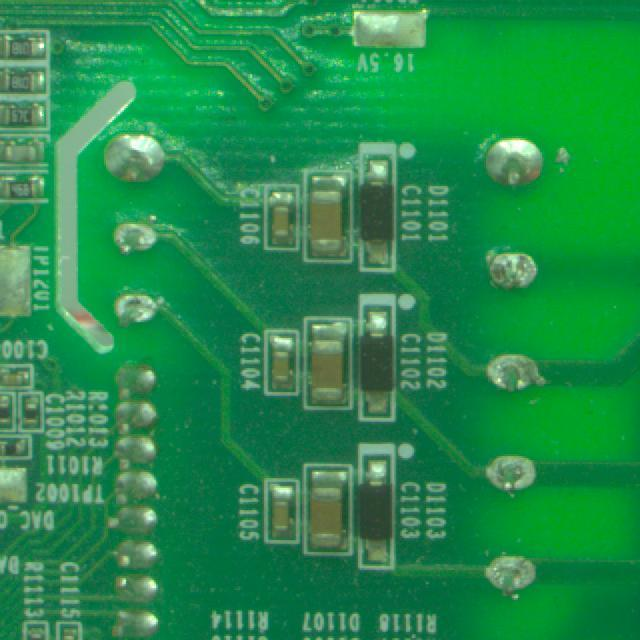Insufficient solder: (485, 344, 540, 402), (483, 551, 544, 600), (483, 453, 540, 495)
